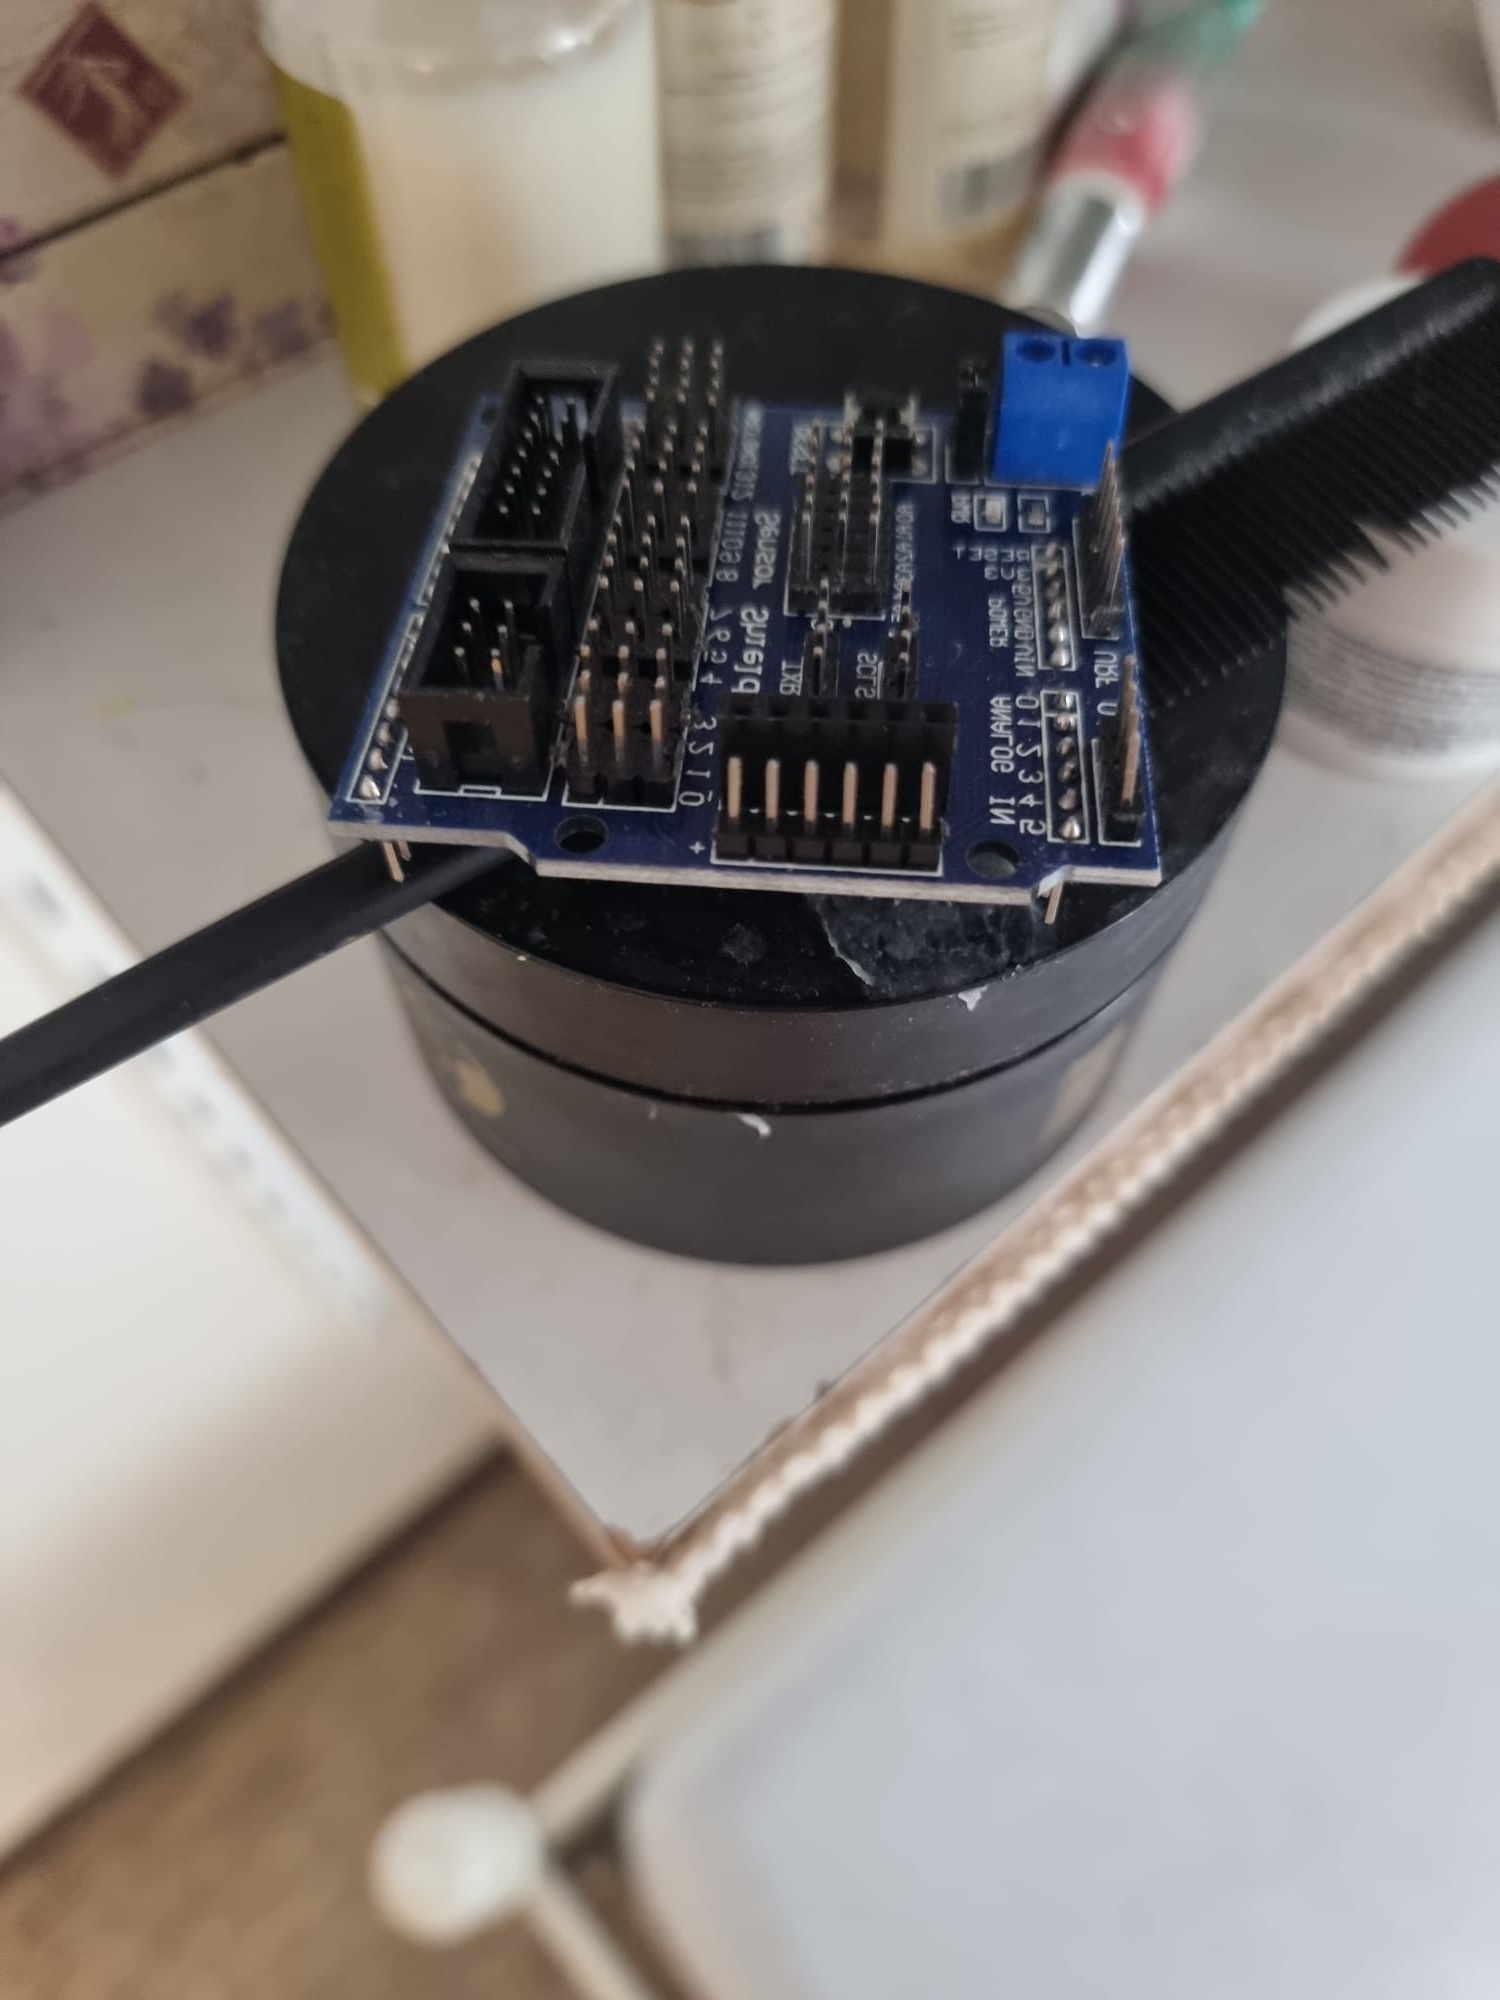5V EXPANSION: (336, 324, 1150, 857)
